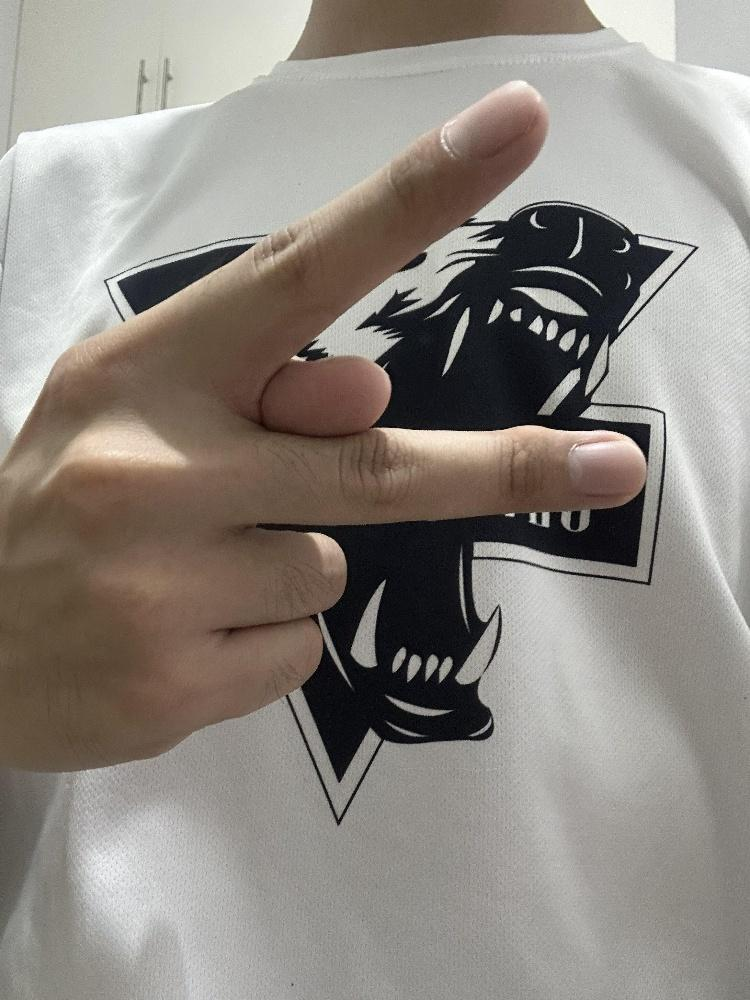k: (0, 73, 651, 774)
